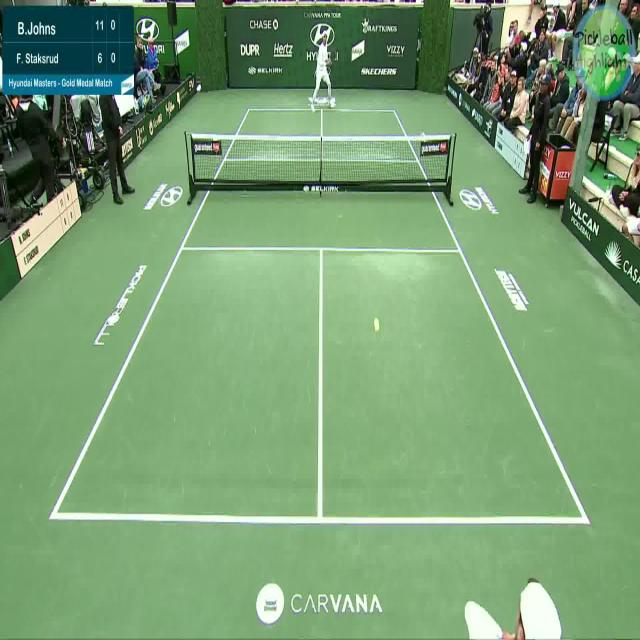Court: (51, 109, 589, 524)
ball: (369, 312, 386, 335)
